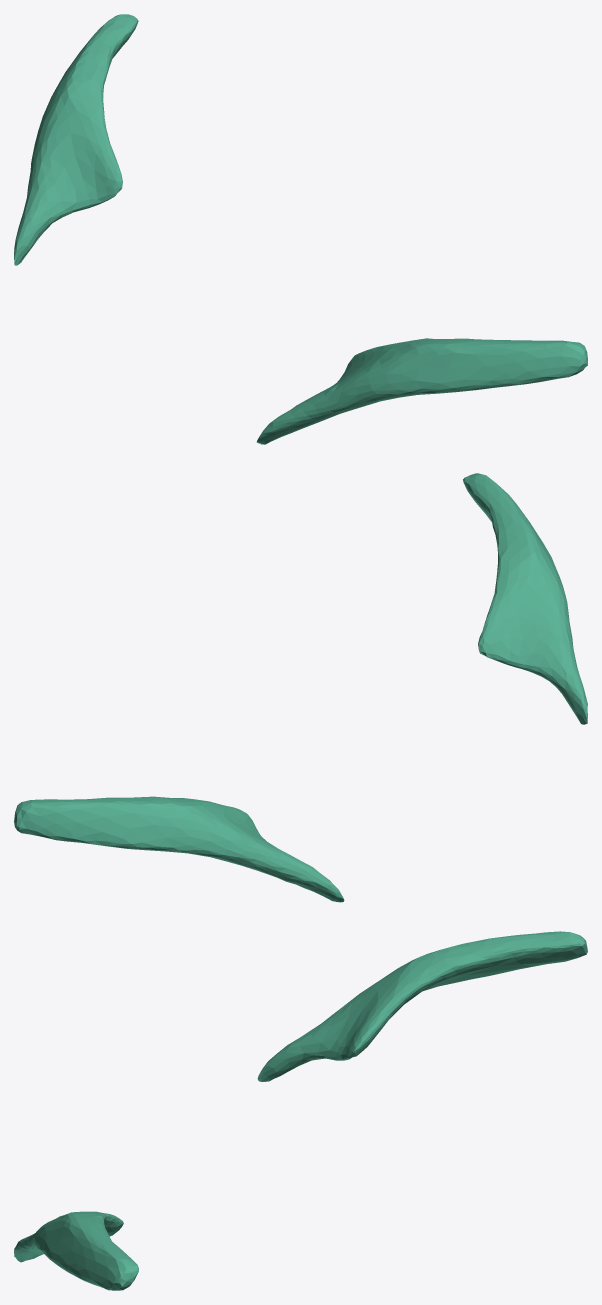
3 renders of one model, top to bottom at view 1: azimuth 30°, elevation 25°; view 2: azimuth 150°, elevation 25°; view 3: azimuth 330°, elevation 25°, orthographic.
Visible parts, largest first — view 1: 694.obj; view 2: 694.obj; view 3: 694.obj.
Part boxes in pixels (left/top/right/bottom): 694.obj: left=14, top=14, right=587, bottom=444; 694.obj: left=14, top=473, right=587, bottom=902; 694.obj: left=14, top=931, right=587, bottom=1290.
Bounding box in the file's own units: 2133 × 1141 × 7629.
